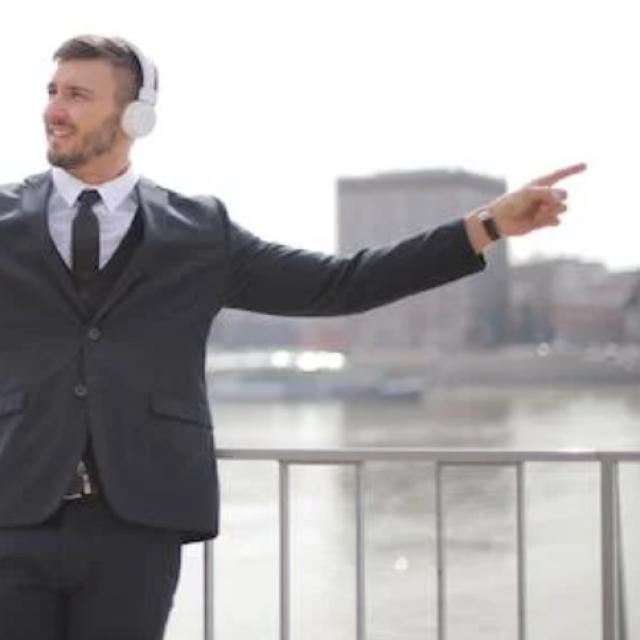Watch: (474, 202, 506, 246)
